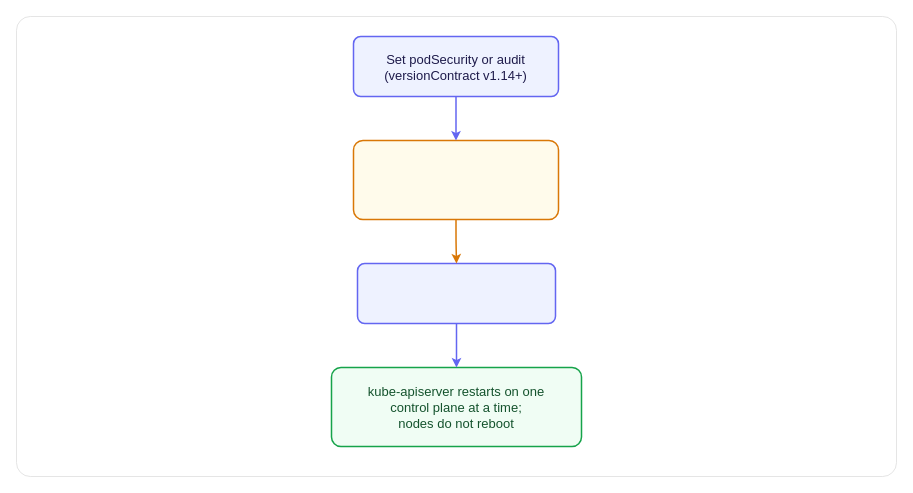
Image size: 913x493. Some labels were removed from this diagram. Here are the shapes that lost their labels. From the top down, the centre of each, then its label:
At (x=455, y=179): "Control plane shows Ready=False APIServerRestartRequired".
At (x=456, y=293): "ichor rollout config --cluster NAME --follow".
